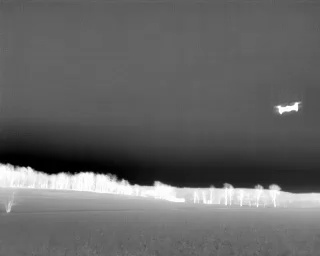DRONE: (270, 96, 305, 120)
